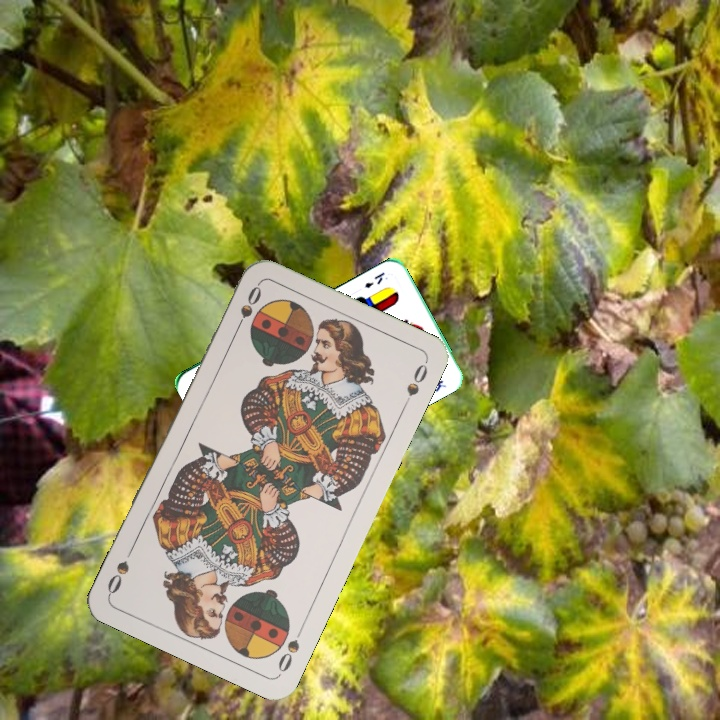EK: (361, 268, 387, 291)
SO: (230, 280, 265, 336), (273, 621, 307, 675)
